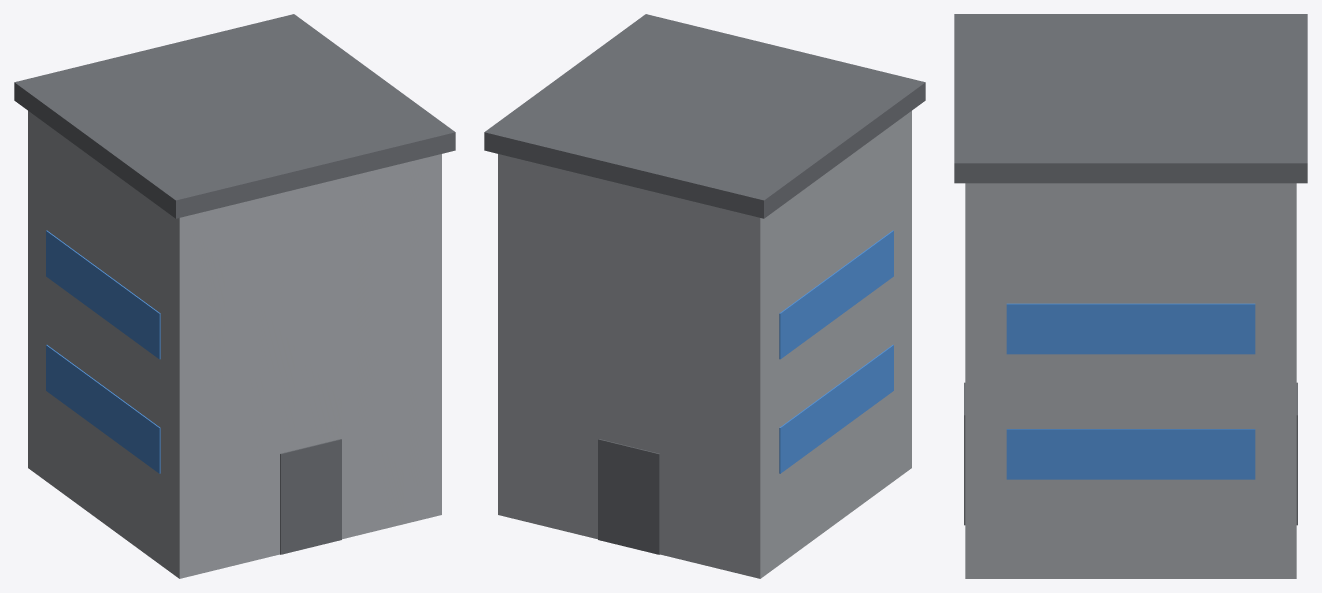
The model's file is Building_Small_01.fbx.
The picture shows the model from 3 angles, left to right: view 1: azimuth 30°, elevation 25°; view 2: azimuth 150°, elevation 25°; view 3: azimuth 270°, elevation 25°; orthographic projection. The views are drawn at different scales.
Visible parts, largest first — view 1: Body, Roof, Door, Windows_1, Windows_0; view 2: Body, Roof, Door, Windows_1, Windows_0; view 3: Body, Roof, Windows_1, Windows_0, Door.
Part boxes in pixels (x1,y1,x2,y2): Body: [28, 111, 441, 578]; Roof: [14, 14, 455, 218]; Door: [280, 439, 341, 554]; Windows_1: [46, 230, 160, 359]; Windows_0: [46, 345, 160, 473]; Body: [498, 111, 911, 578]; Roof: [484, 14, 925, 218]; Door: [598, 439, 659, 554]; Windows_1: [779, 230, 893, 359]; Windows_0: [779, 345, 893, 473]; Body: [965, 183, 1296, 578]; Roof: [954, 14, 1307, 183]; Windows_1: [1006, 303, 1255, 354]; Windows_0: [1006, 429, 1255, 479]; Door: [964, 382, 1297, 525].
Size of the model in its own units: 6.4 by 8.4 by 6.4.
